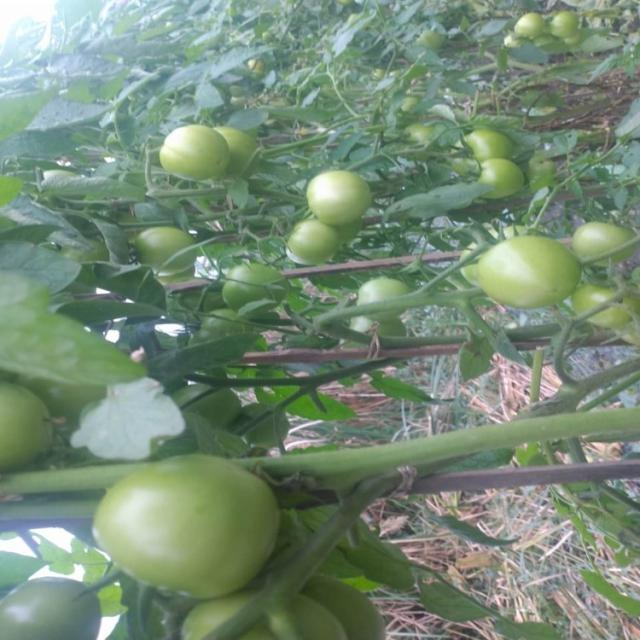tomato: (83, 447, 272, 602), (165, 577, 351, 640), (458, 230, 575, 316), (294, 559, 389, 640), (1, 570, 107, 640), (342, 273, 453, 338), (5, 374, 70, 478), (298, 162, 376, 229), (218, 249, 291, 316), (156, 119, 229, 185), (567, 209, 640, 271), (134, 219, 210, 276), (276, 219, 342, 275), (575, 277, 638, 334), (207, 107, 255, 174), (464, 155, 524, 205), (453, 119, 511, 162), (546, 16, 590, 49), (414, 26, 459, 56), (517, 9, 545, 50), (500, 31, 520, 50)
